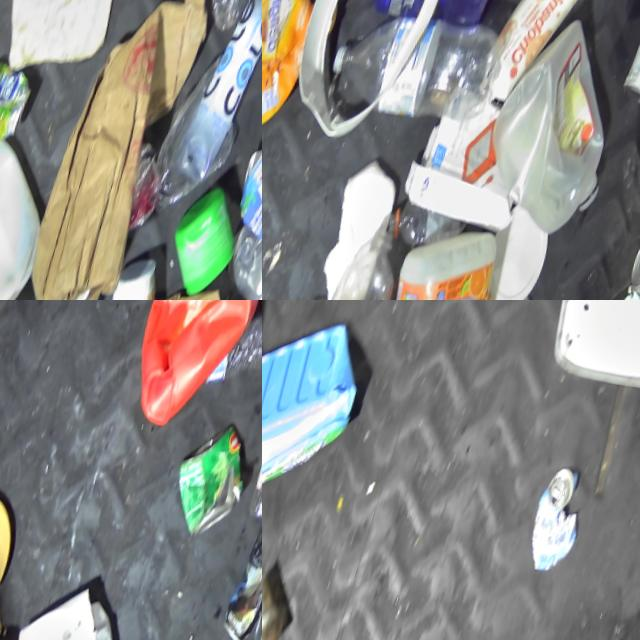can: (112, 300, 262, 437), (516, 454, 612, 584), (262, 560, 318, 640), (0, 52, 51, 137), (620, 19, 640, 109), (624, 218, 640, 300)
milk_jug: (471, 1, 640, 245), (0, 118, 77, 300)
non_white_jug: (262, 300, 383, 525), (175, 0, 262, 193), (352, 223, 513, 300)
plastic_bottle: (316, 0, 513, 144), (282, 226, 410, 300)
